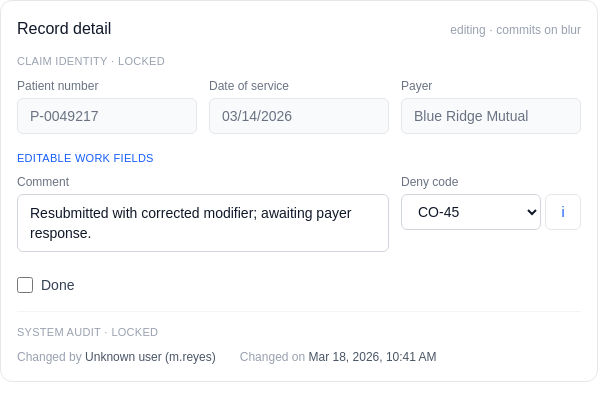
Test: deny-code modal triggers › restores the previous Done state when saving fails
Click the checkbox labelled "Done" at (25,285), box [17,277,33,293]
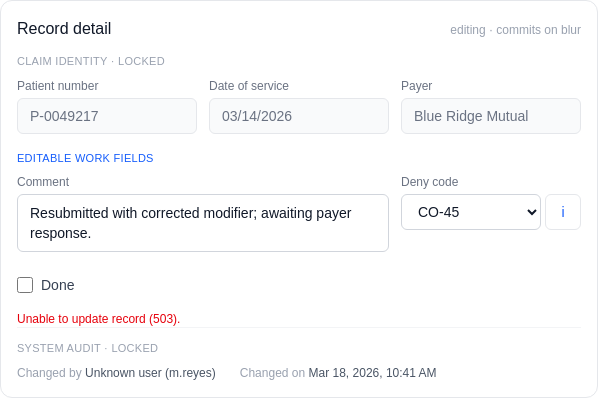
Expected: the message reads "Unable to update record (503).", [17,312,180,326]
